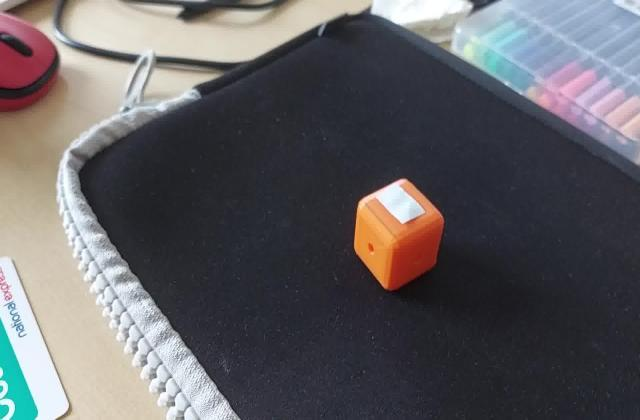cube: (350, 177, 446, 294)
white: (385, 195, 428, 225)
